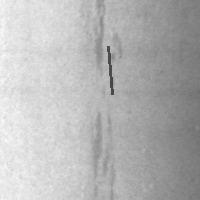inclusion: (84, 101, 119, 199), (89, 1, 121, 87), (106, 44, 114, 96)
